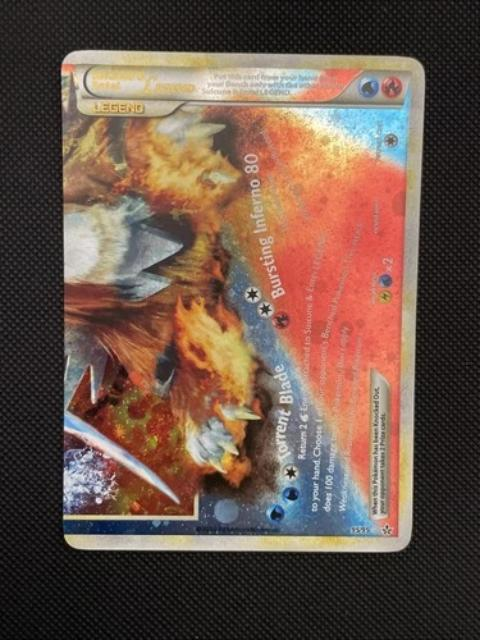Card: (56, 46, 430, 557)
Name: (83, 62, 206, 100)
